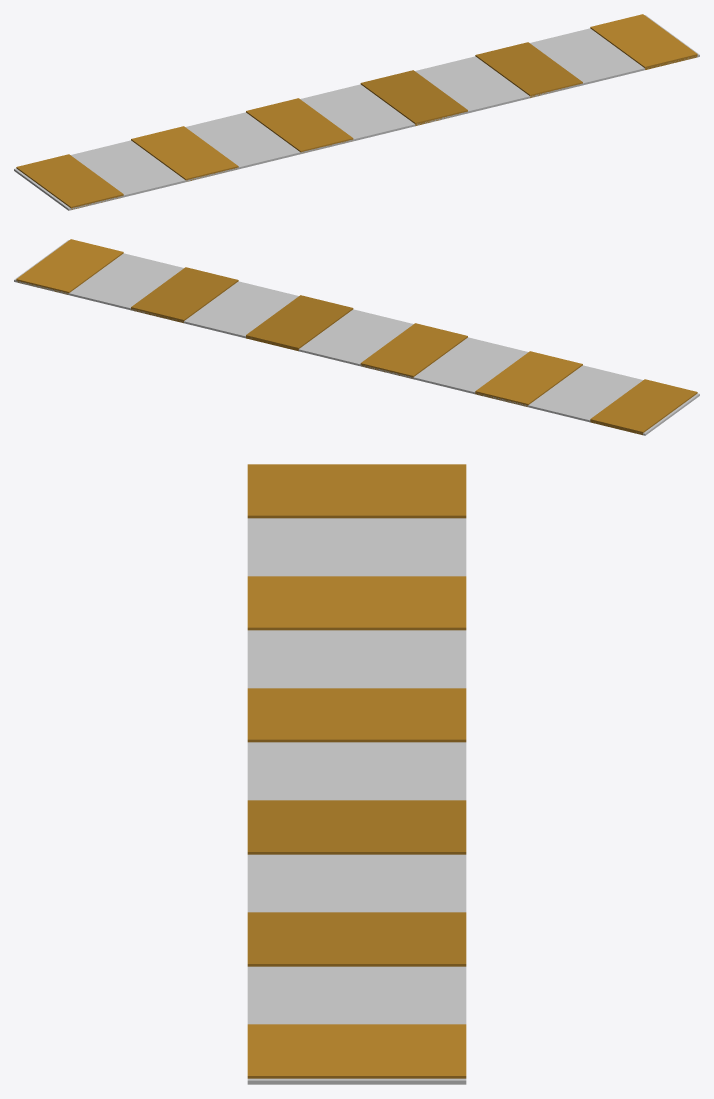
File: Floor_Hazard_Strip_4m.fbx
3 renders of one model, top to bottom at view 1: azimuth 30°, elevation 25°; view 2: azimuth 150°, elevation 25°; view 3: azimuth 270°, elevation 25°, orthographic. The views are drawn at different scales.
Parts seen in each view (by area): view 1: Floor_Hazard_Strip_4m; view 2: Floor_Hazard_Strip_4m; view 3: Floor_Hazard_Strip_4m.
Boxes of the visible parts, <box> form: Floor_Hazard_Strip_4m: <box>14,14,699,210</box>; Floor_Hazard_Strip_4m: <box>14,239,699,435</box>; Floor_Hazard_Strip_4m: <box>247,464,466,1084</box>.
Size of the model in its own units: 4 by 0.02 by 0.6.
